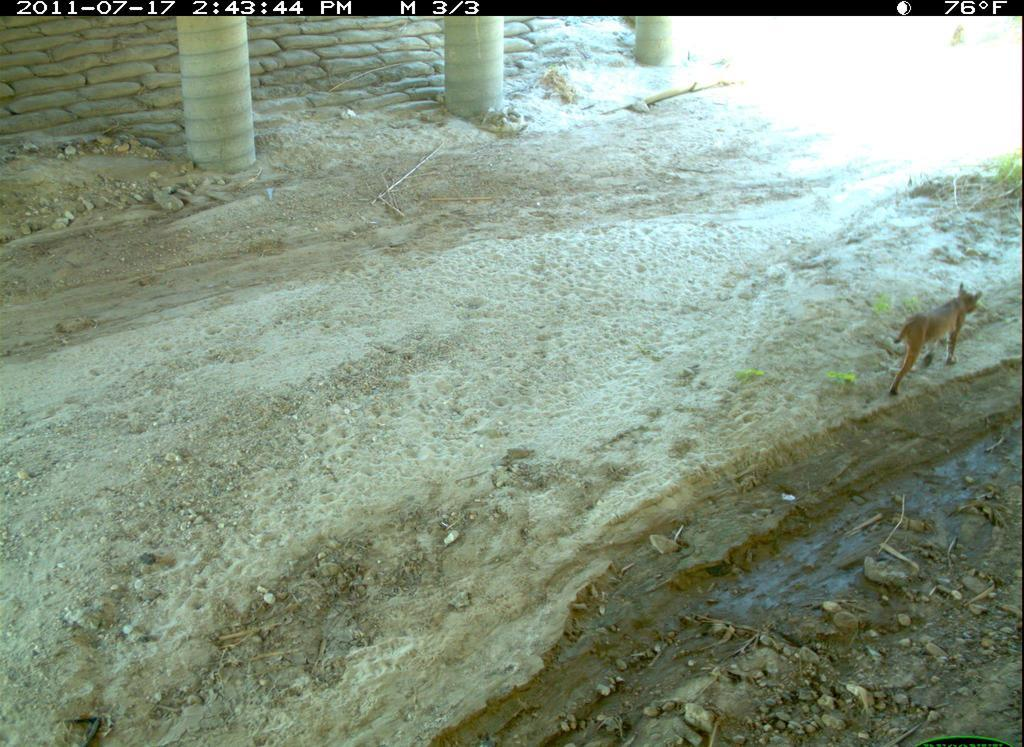bobcat: (882, 282, 989, 401)
